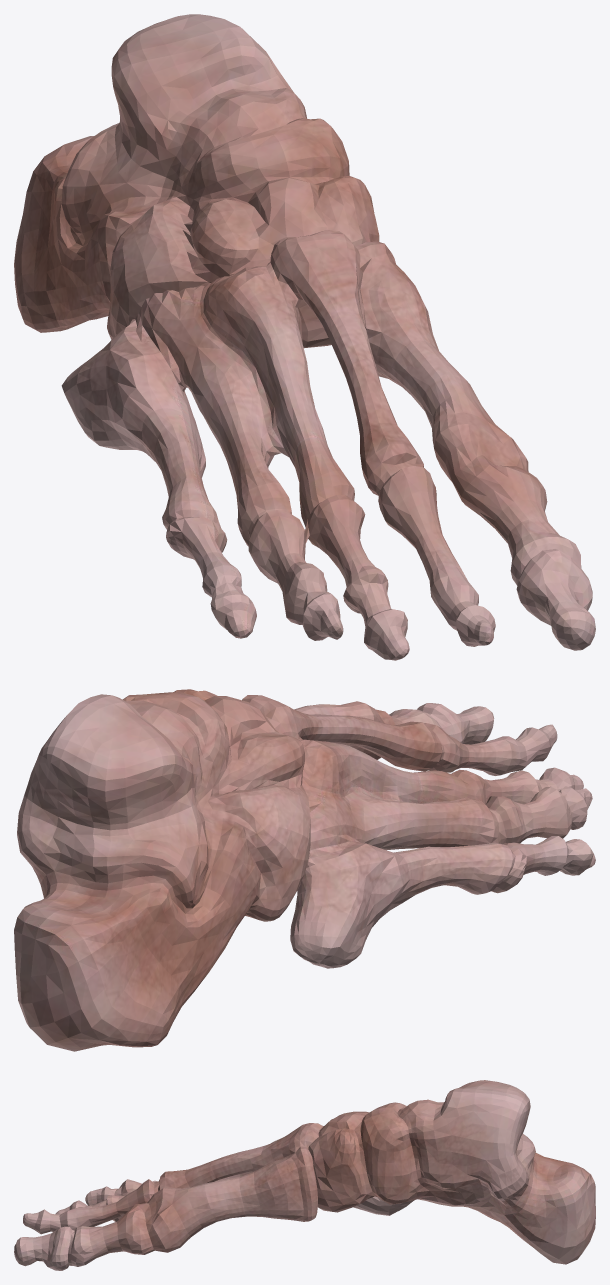
The model's file is SubTool-16-5430089.OBJ.
3 views of the same model, one above another, from view 1: azimuth 30°, elevation 25°; view 2: azimuth 150°, elevation 25°; view 3: azimuth 270°, elevation 25° (orthographic). The views are drawn at different scales.
Visible parts, largest first — view 1: Group5, ZBrush_defualt_group; view 2: ZBrush_defualt_group, Group5; view 3: ZBrush_defualt_group, Group5.
Boxes of the visible parts, x1,y1,x2,y2 form: Group5: (61, 230, 595, 660); ZBrush_defualt_group: (14, 14, 379, 348); ZBrush_defualt_group: (14, 689, 310, 1051); Group5: (242, 695, 595, 968); ZBrush_defualt_group: (308, 1080, 595, 1264); Group5: (14, 1123, 414, 1270).
Bounding box in the file's own units: 0.8038 × 0.7354 × 2.03.
Materials: 1 (1 with a texture image).
